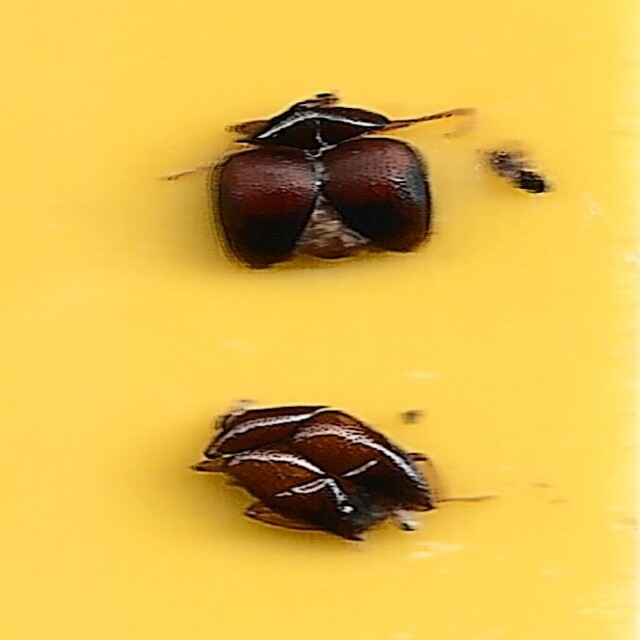Coleoptera: (158, 96, 482, 274), (184, 403, 461, 544)
